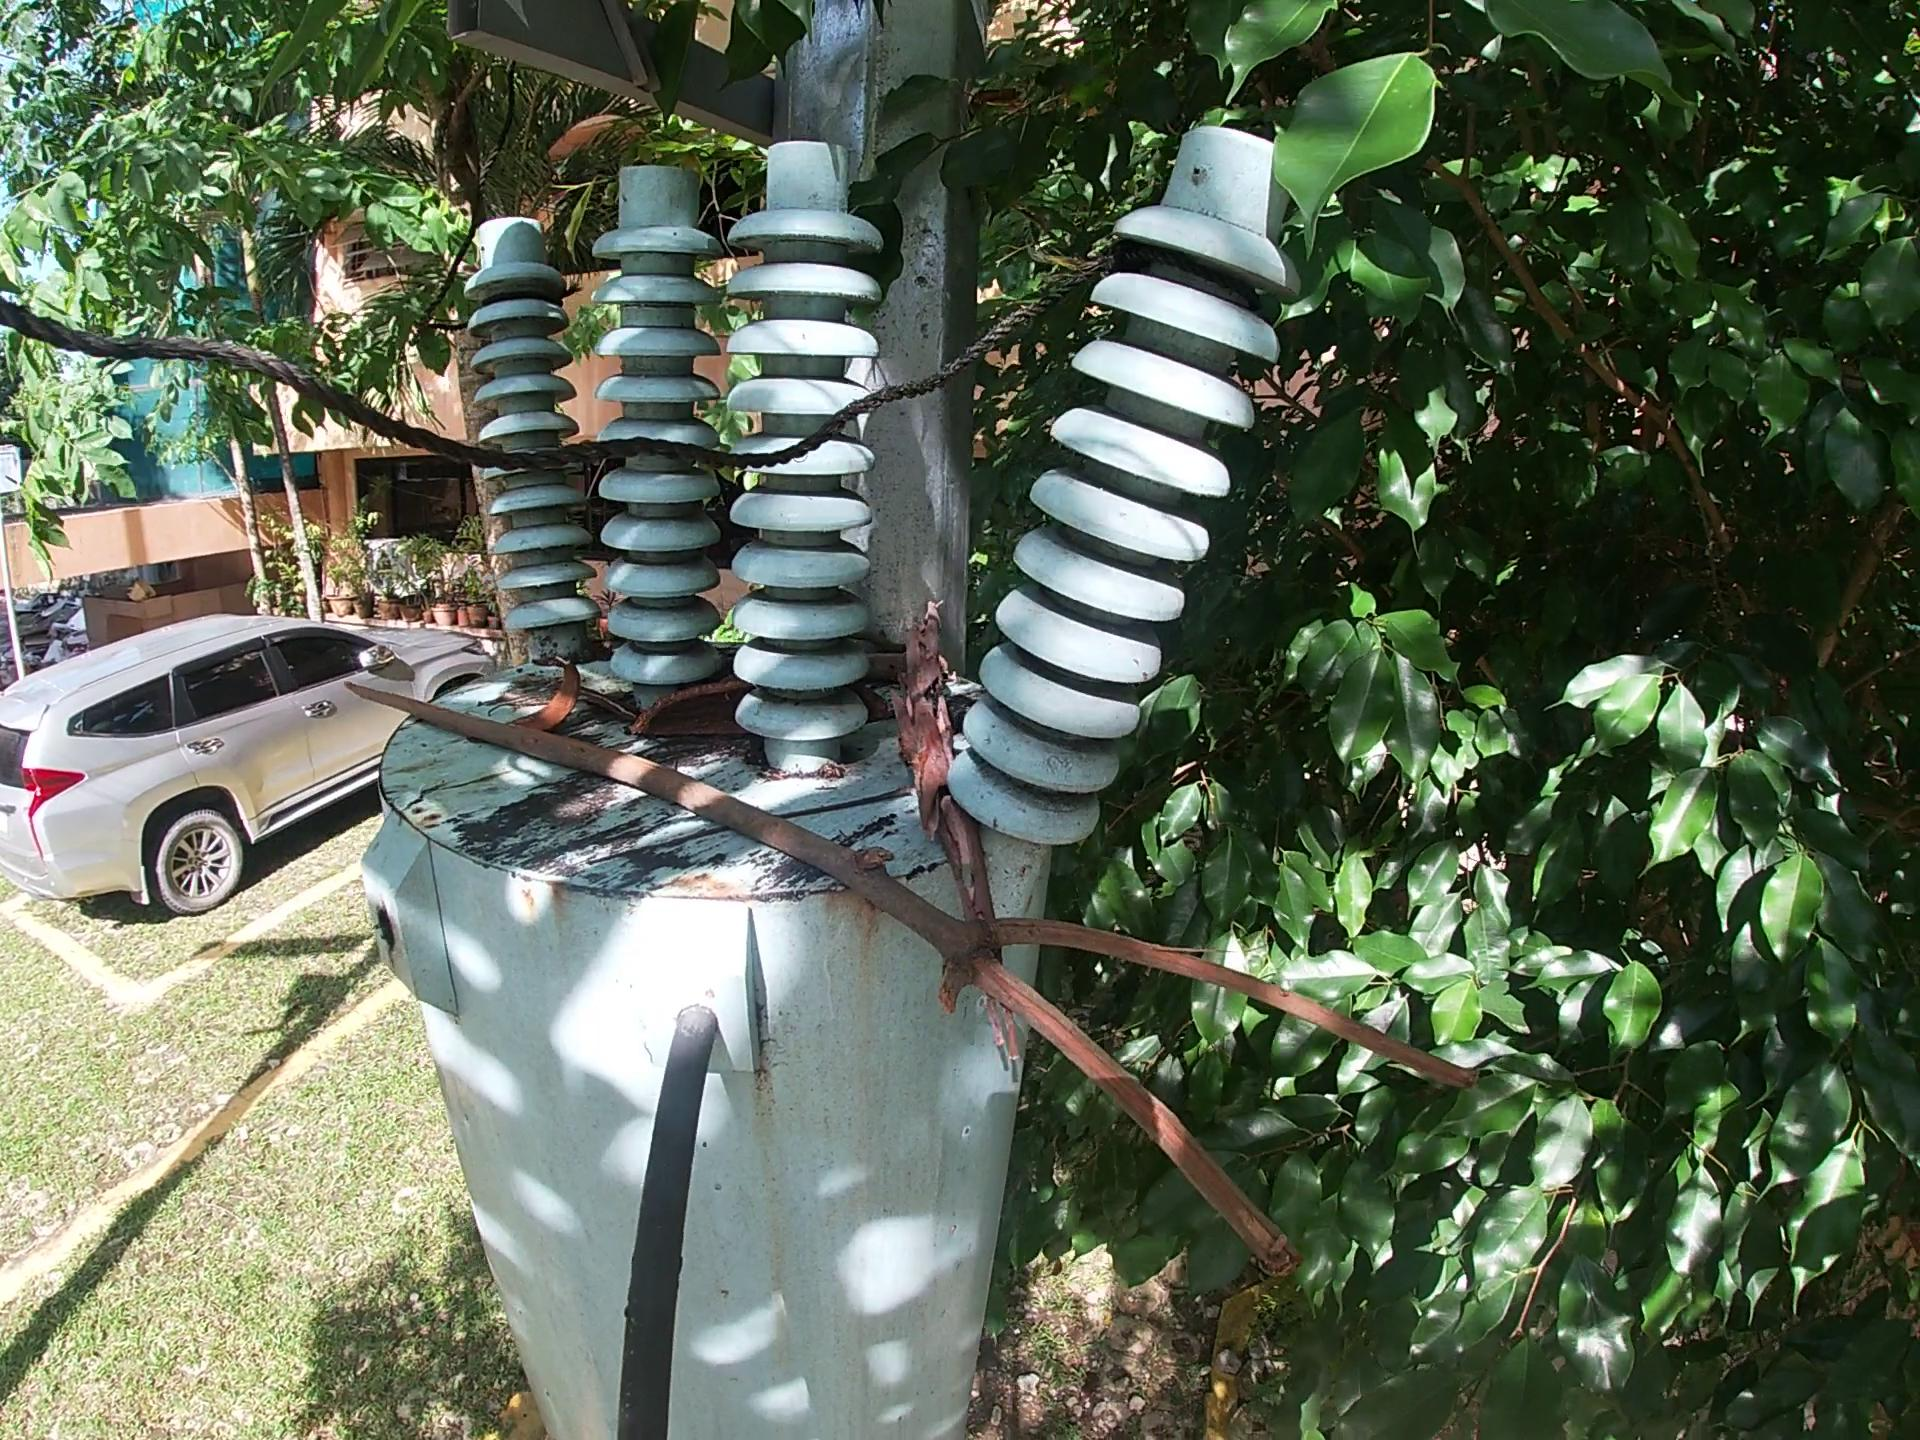mahogany fruit: (615, 678, 900, 746), (505, 655, 587, 735)
tree branch: (337, 678, 1489, 1286), (883, 588, 1031, 1074), (865, 650, 954, 681)
